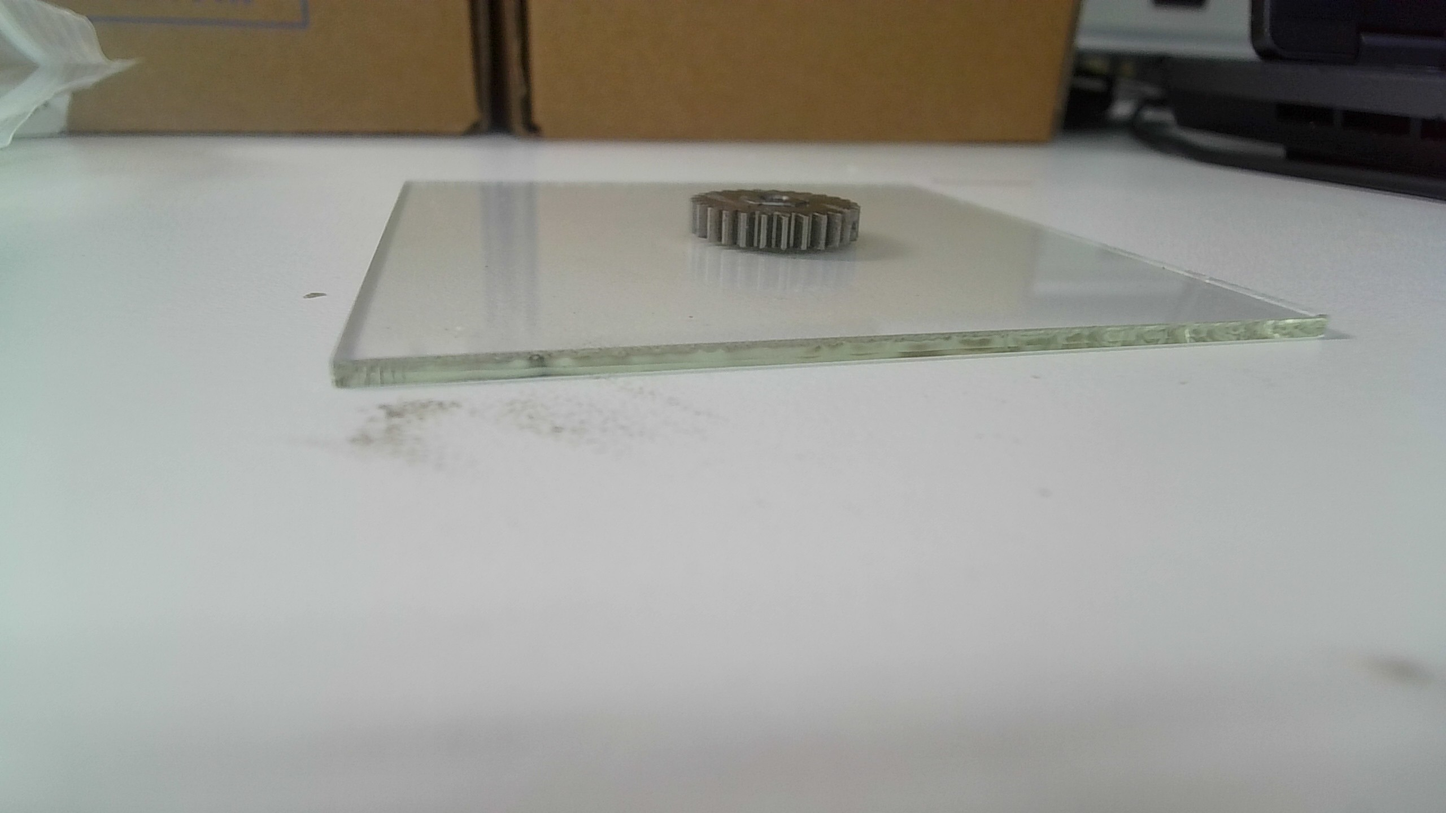gear: (687, 187, 865, 257)
